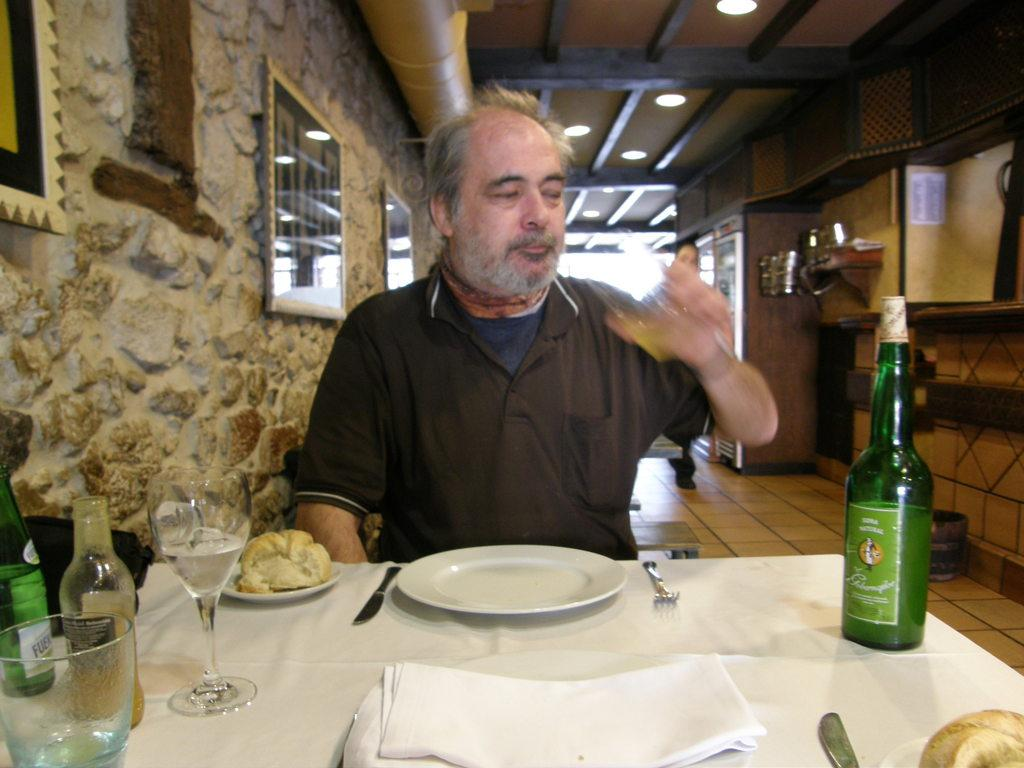plate: (396, 545, 628, 614)
